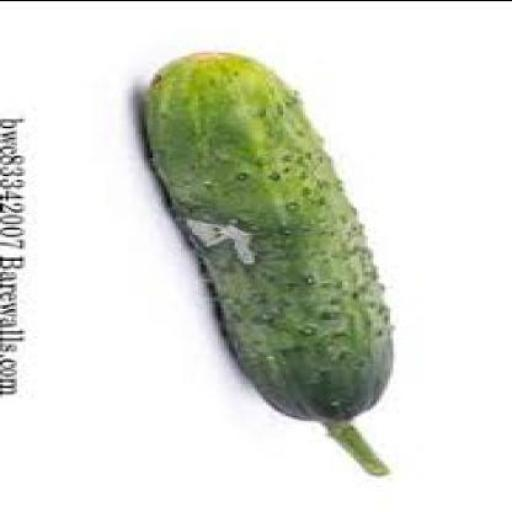biodegradable: (138, 48, 400, 471)
